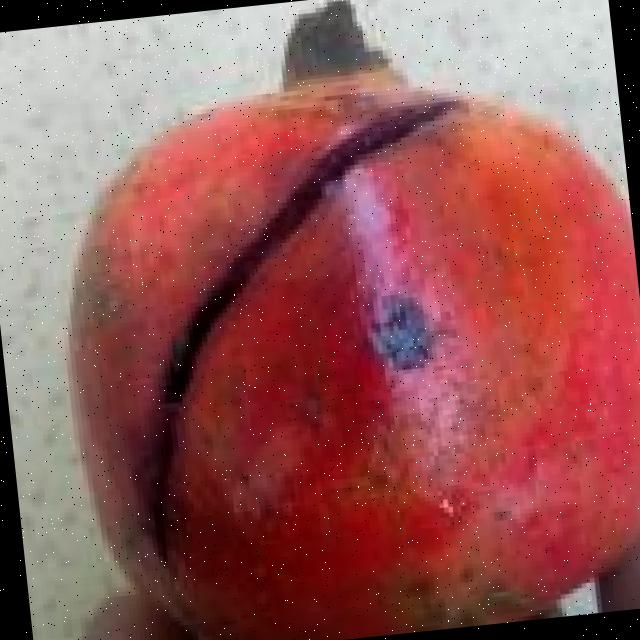Bad_Pomegranate-0-1-day: (59, 9, 640, 640)
